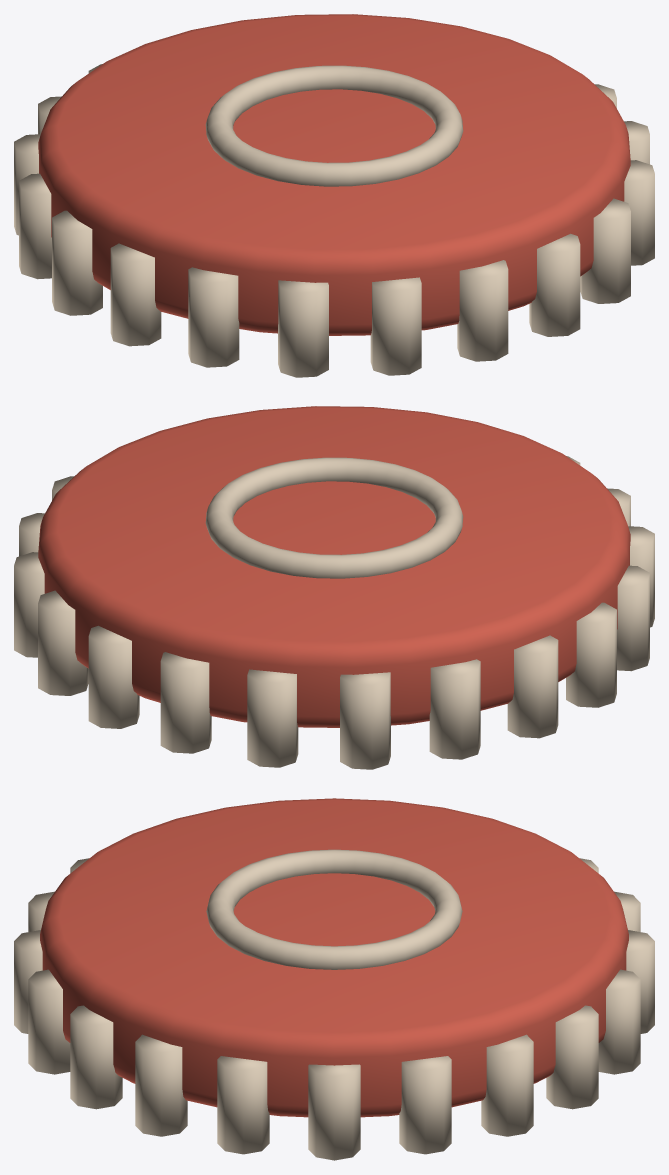
Rendered from bottle_cap.glb.
3 views of the same model, one above another, from view 1: azimuth 30°, elevation 25°; view 2: azimuth 150°, elevation 25°; view 3: azimuth 270°, elevation 25° (orthographic).
Parts seen in each view (by area): view 1: bottle_cap_textured_mesh; view 2: bottle_cap_textured_mesh; view 3: bottle_cap_textured_mesh.
Boxes of the visible parts, x1=… form: bottle_cap_textured_mesh: x1=14, y1=14, x2=654, y2=377; bottle_cap_textured_mesh: x1=14, y1=406, x2=654, y2=769; bottle_cap_textured_mesh: x1=14, y1=798, x2=654, y2=1160.
Bounding box in the file's own units: 1.18 × 0.255 × 1.18.
1 material, 1 textured.
